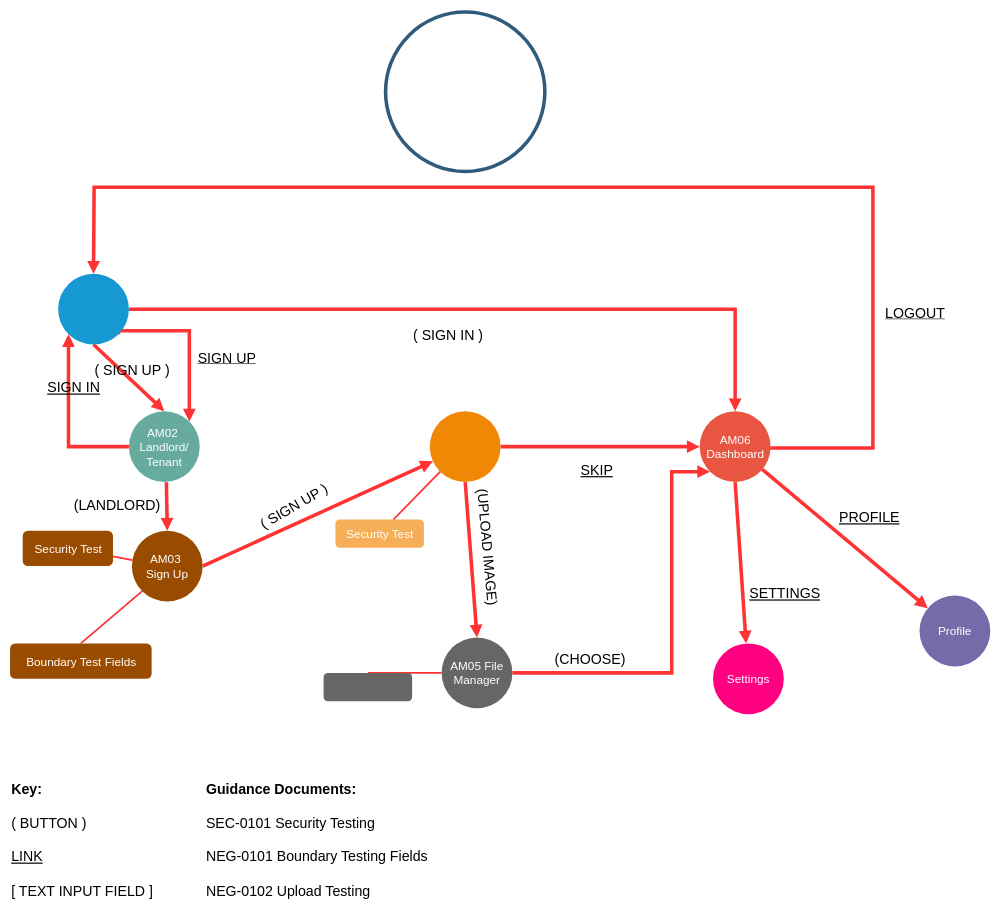
Some shapes in this 1001 by 910 pixel diagram are drawn without their labels. The shapes that lost their labels are listed below. From the top down, each one's box as (x1, y1, x2, y2) in pixels, then its label:
(384, 10, 546, 173): Access Management
(58, 273, 129, 344): AM01 Sign in
(430, 411, 500, 482): AM04 Upload Image
(323, 673, 412, 701): Upload Testing
